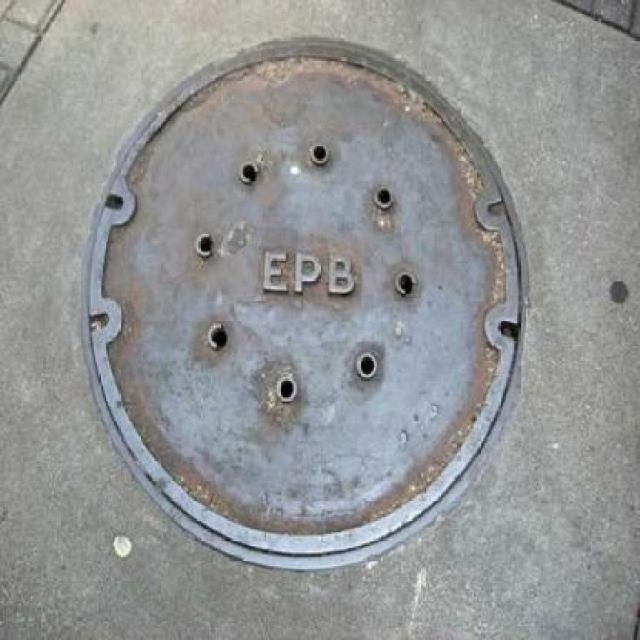Manhole: (69, 32, 546, 572)
